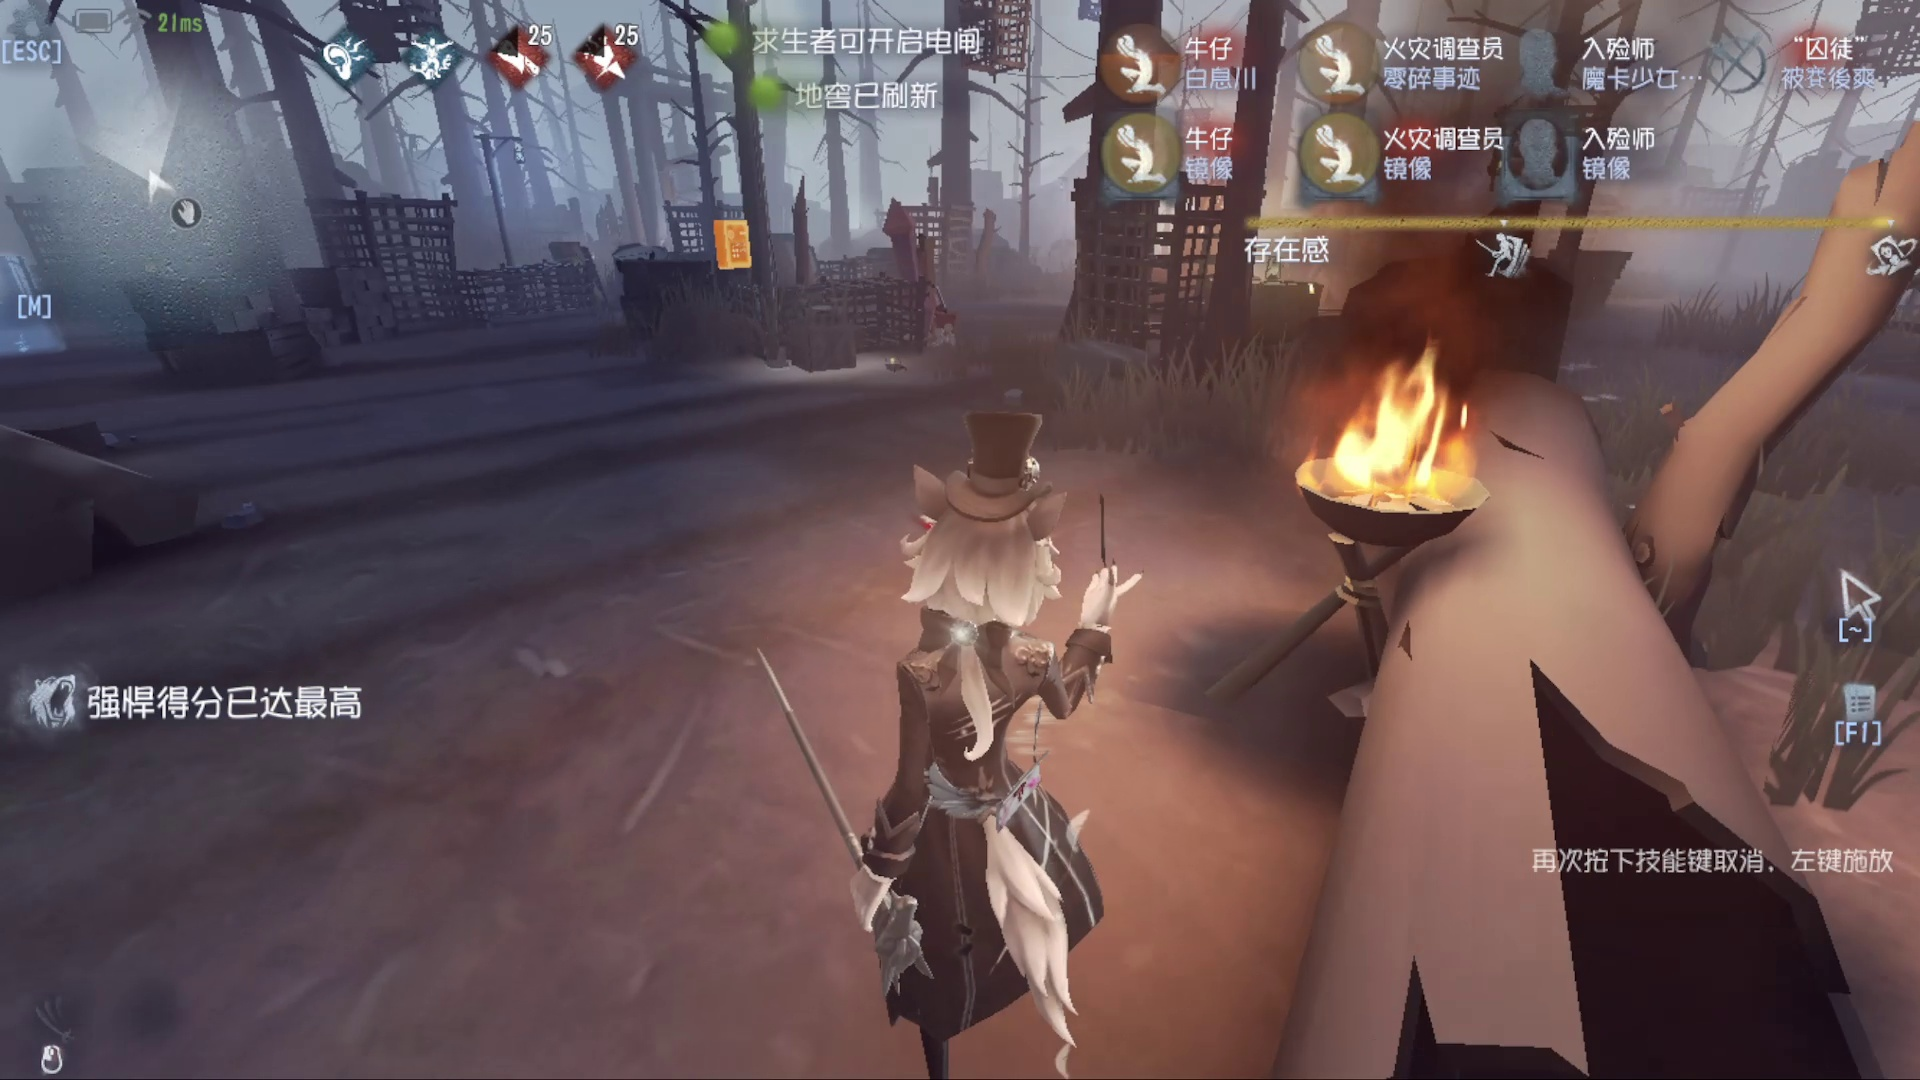狂欢之椅: (860, 185, 982, 407)
